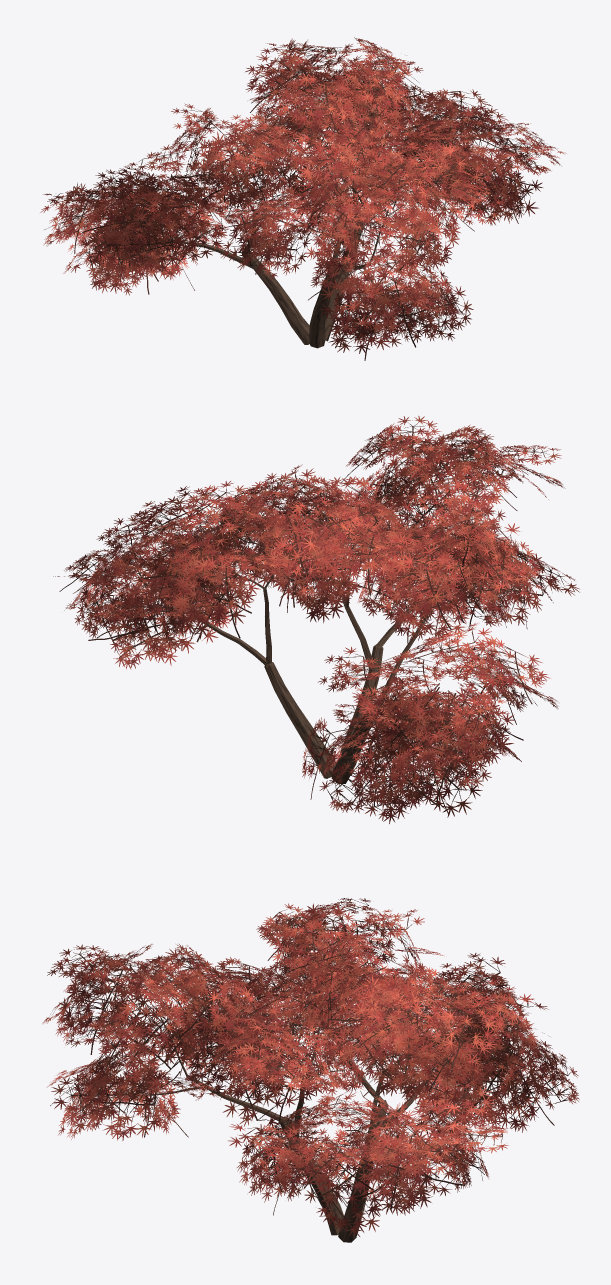
The model's file is tree-japanese-maple.gltf.
3 views of the same model, one above another, from view 1: azimuth 30°, elevation 25°; view 2: azimuth 150°, elevation 25°; view 3: azimuth 270°, elevation 25° (orthographic). The views are drawn at different scales.
Parts seen in each view (by area): view 1: tree_japanese_maple; view 2: tree_japanese_maple; view 3: tree_japanese_maple.
Boxes of the visible parts, left/top/right/bottom form: tree_japanese_maple: left=40, top=37, right=566, bottom=360; tree_japanese_maple: left=53, top=415, right=579, bottom=823; tree_japanese_maple: left=42, top=898, right=579, bottom=1242.
Bounding box in the file's own units: 5.08 × 2.88 × 4.86.
Materials: 3 (3 with a texture image).
